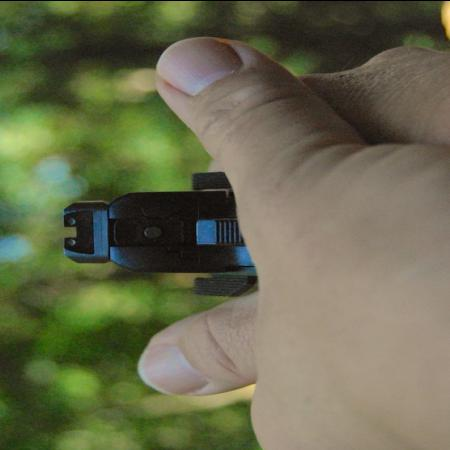Pistol: (46, 157, 267, 300)
